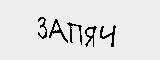А: (47, 17, 70, 46)
З: (36, 16, 49, 39)
П: (66, 22, 85, 46)
Ч: (99, 23, 117, 51)
Я: (83, 24, 97, 50)
